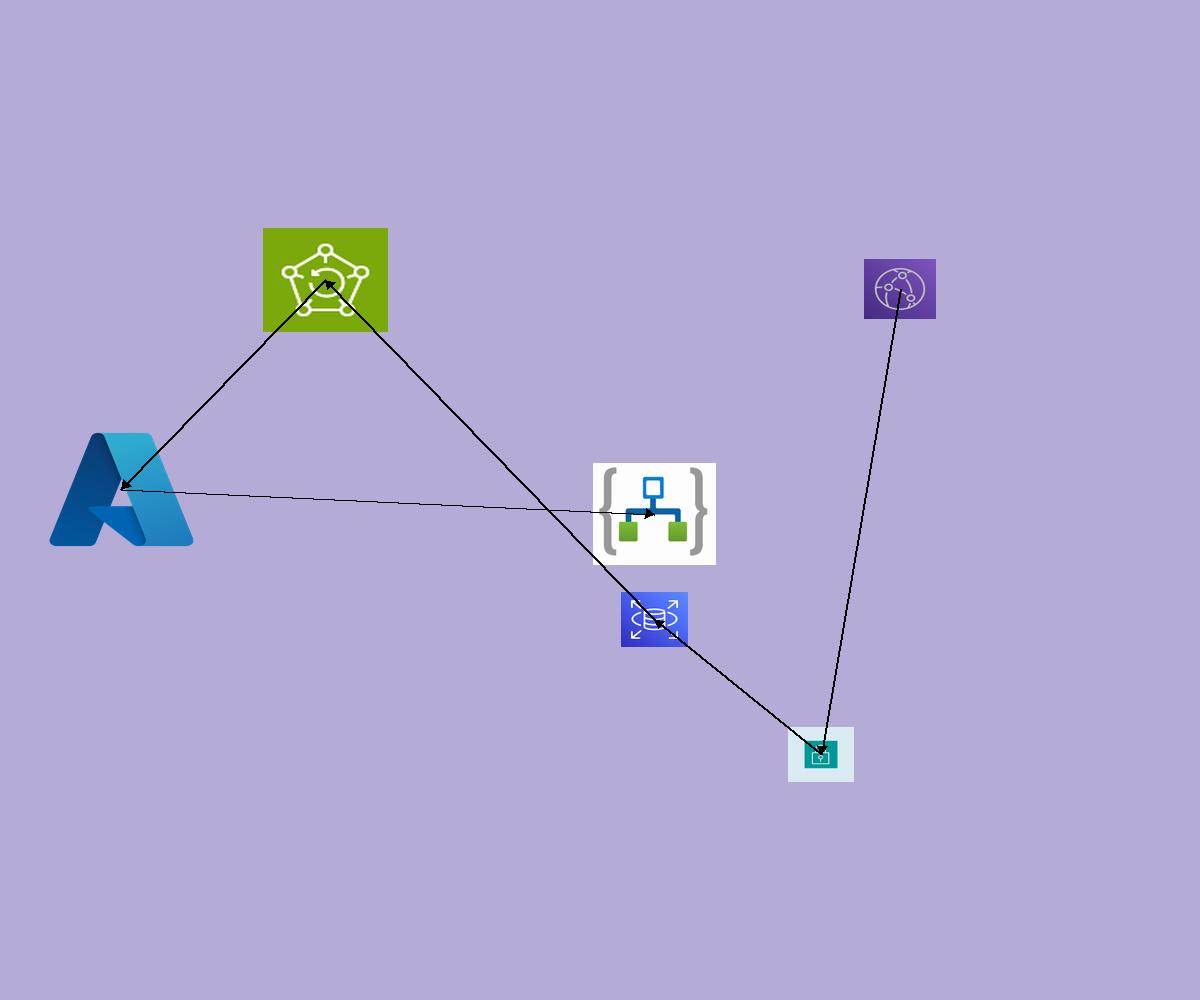AWS-Backup: (263, 228, 388, 332)
AWS-CloudFront: (864, 259, 936, 319)
AWS-Private-subnet: (788, 727, 854, 782)
AWS-RDS: (621, 592, 688, 647)
Azure_integration-204-Logic-Apps: (593, 463, 716, 565)
Azure_services: (43, 424, 200, 555)
